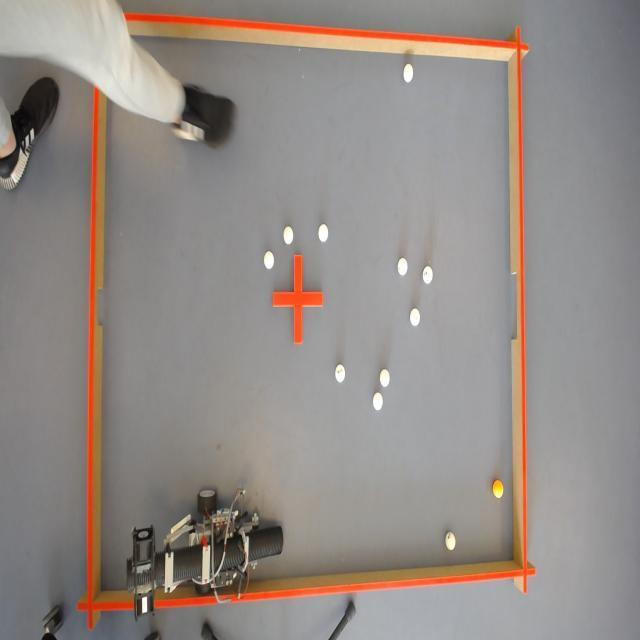orange: (494, 479, 506, 499)
robot: (125, 494, 280, 616)
white: (315, 222, 328, 245), (397, 258, 410, 278), (282, 224, 294, 245), (263, 251, 275, 271), (420, 264, 432, 284), (334, 364, 346, 384), (444, 533, 456, 552), (403, 62, 414, 82), (379, 368, 391, 386), (410, 306, 420, 326), (372, 392, 382, 412)
